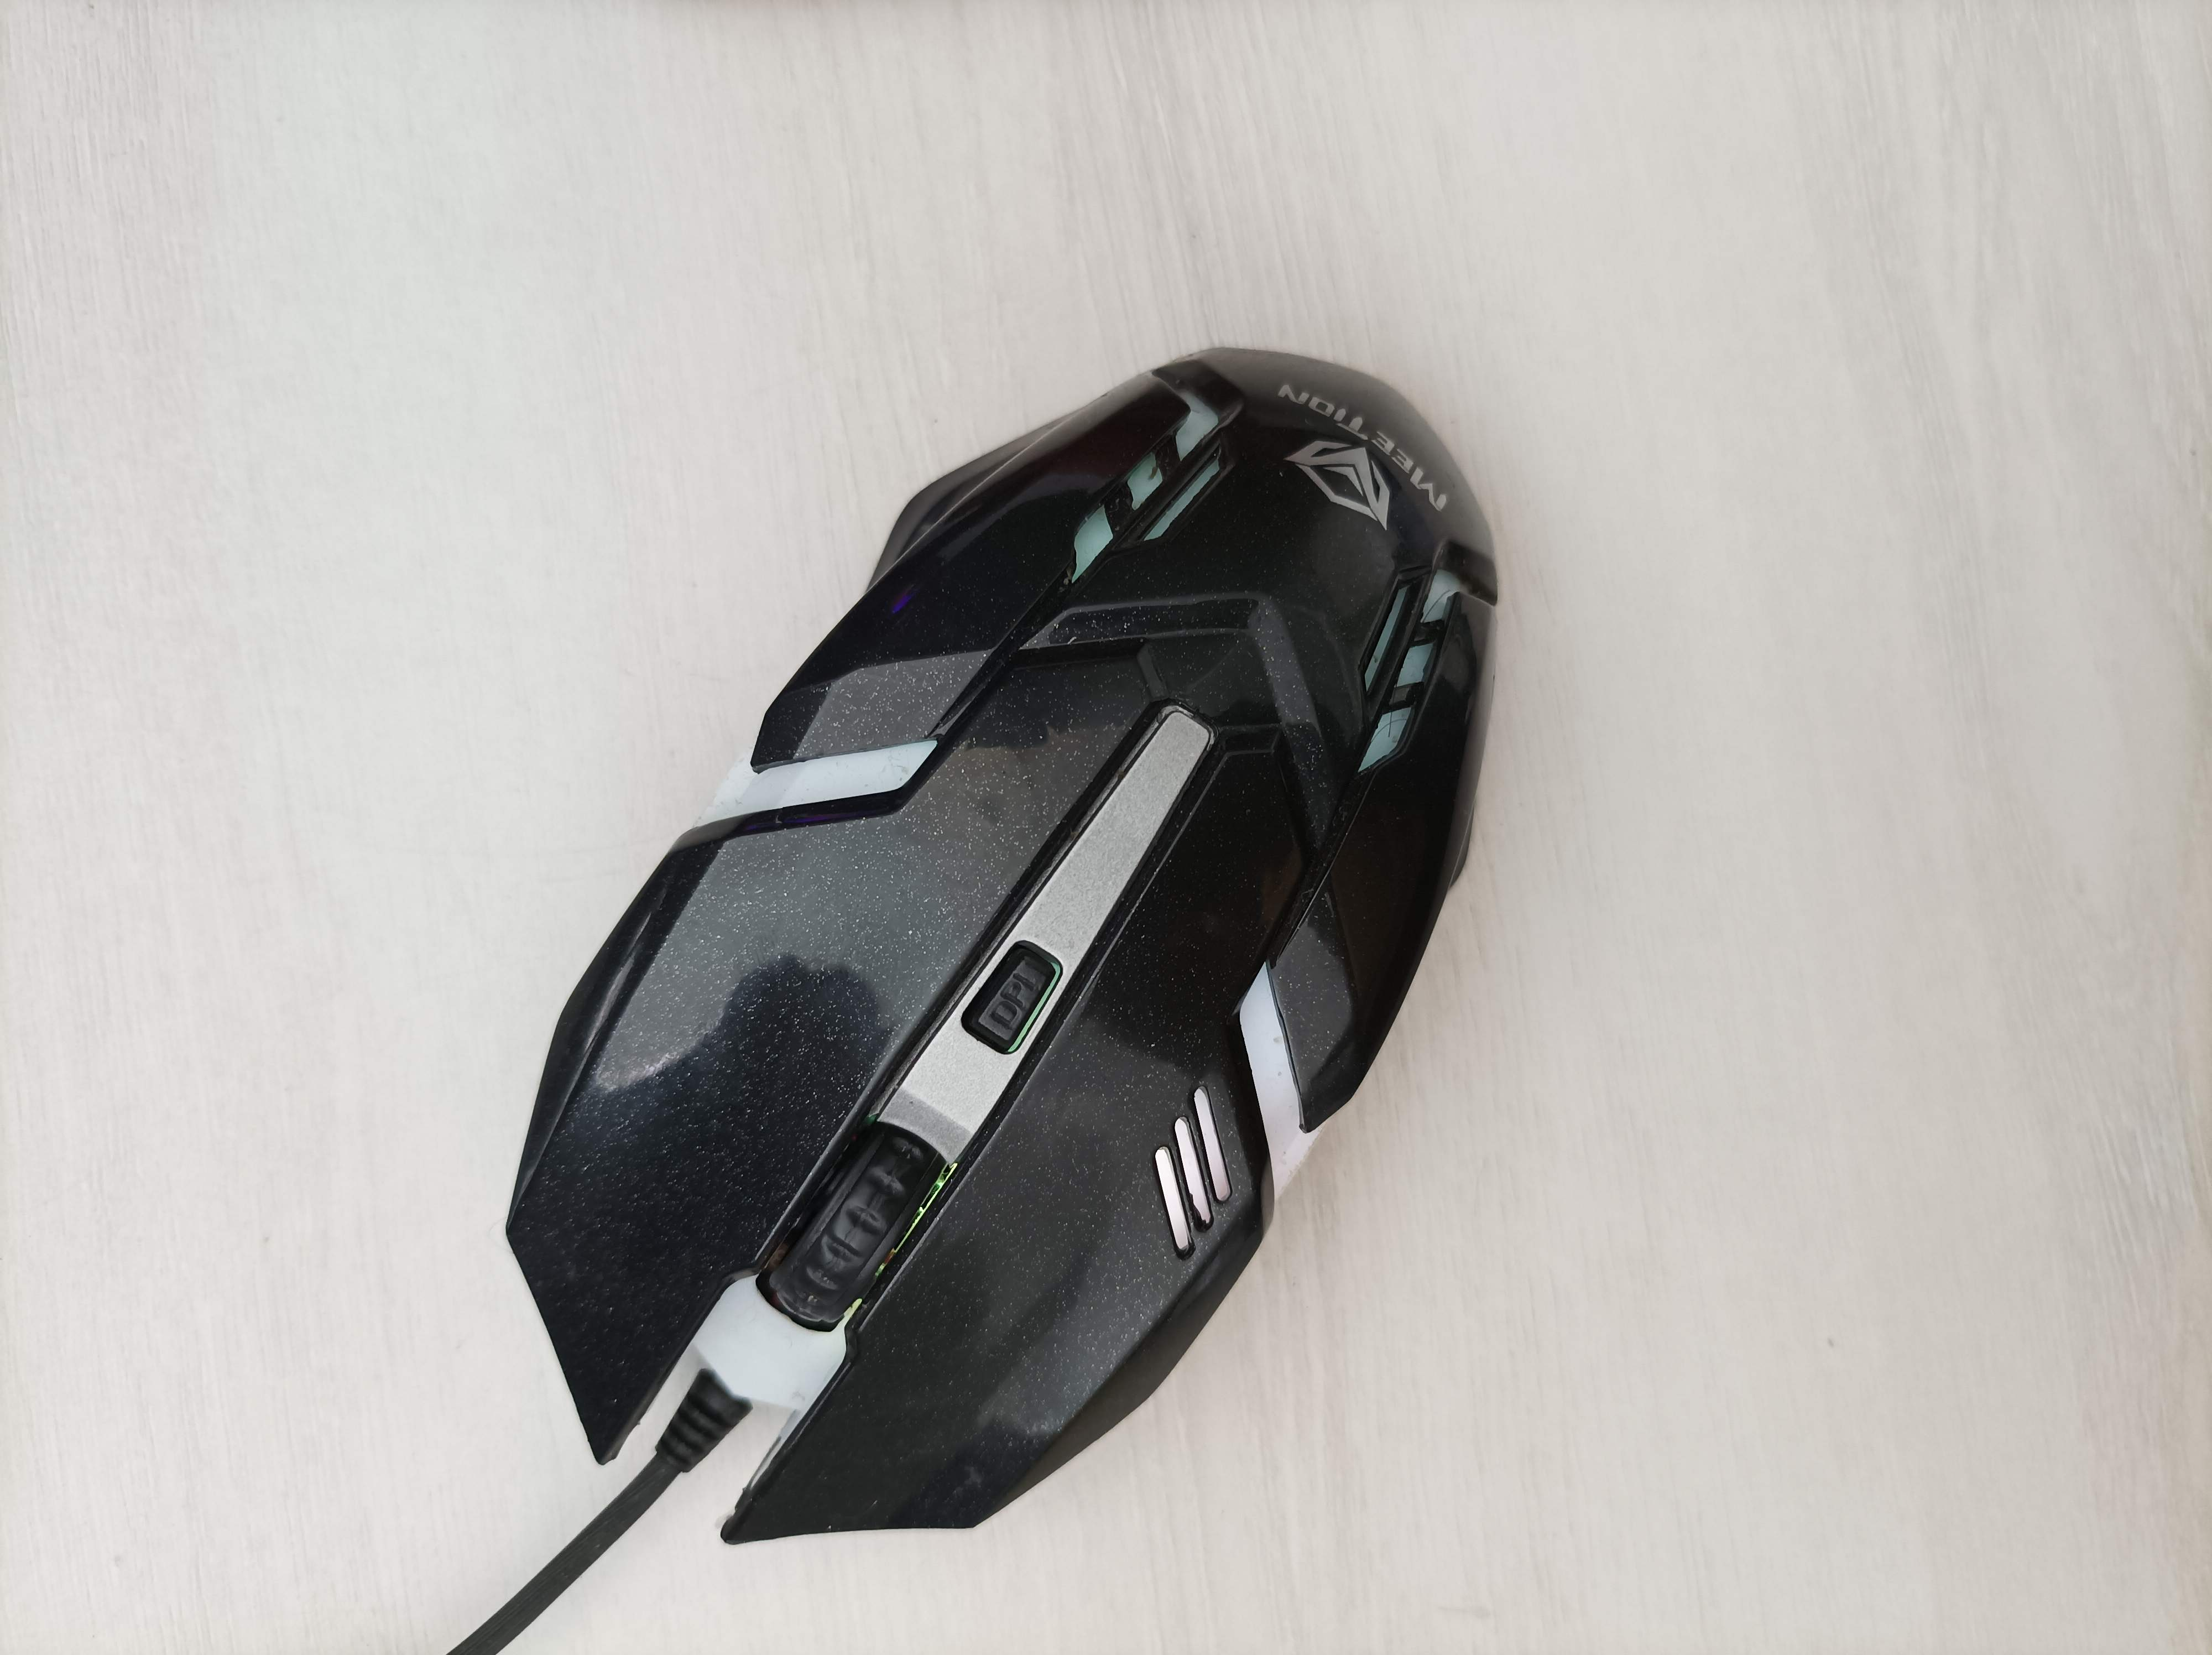mouse: (493, 334, 1507, 1558)
